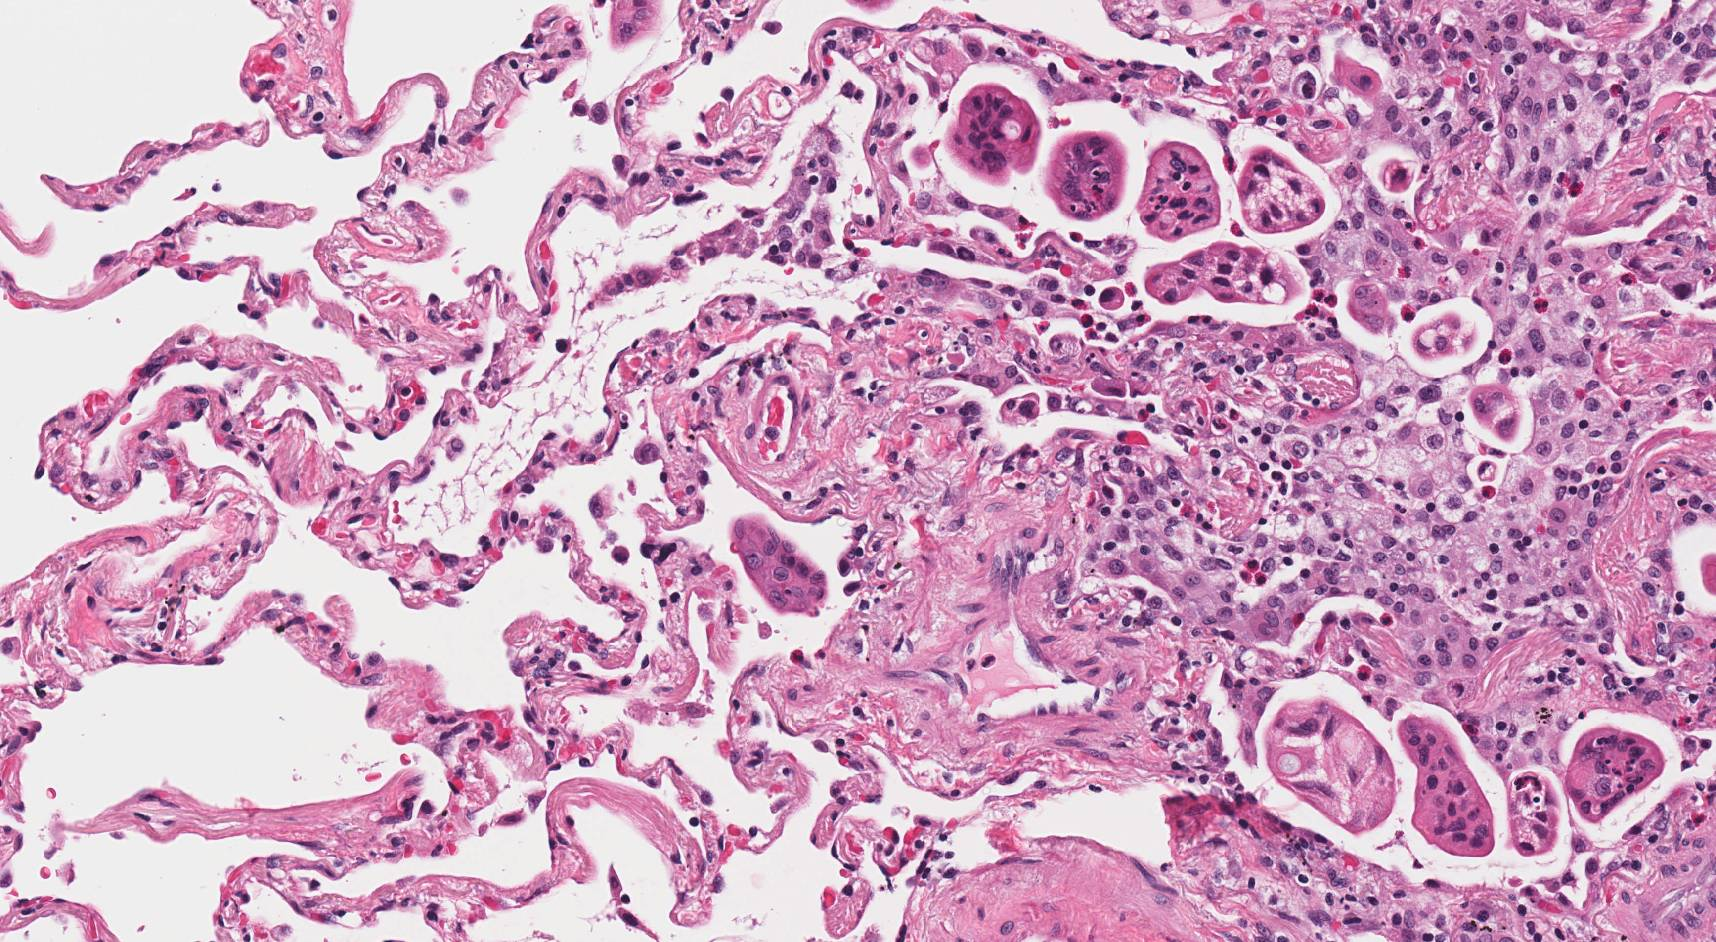stas: (1268, 699, 1398, 837), (1398, 714, 1496, 857), (1146, 240, 1300, 309), (944, 82, 1044, 187), (728, 514, 829, 616), (1562, 725, 1665, 821), (1136, 141, 1223, 241), (1238, 147, 1329, 234), (1046, 132, 1123, 221), (1510, 774, 1560, 856)
